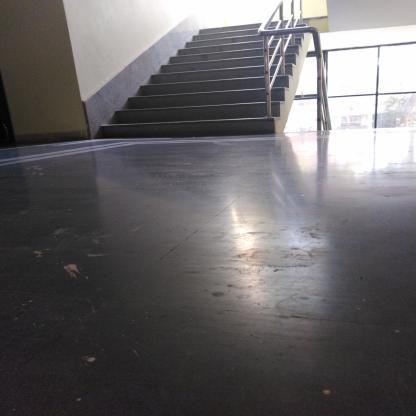stairs: (198, 29, 257, 138)
